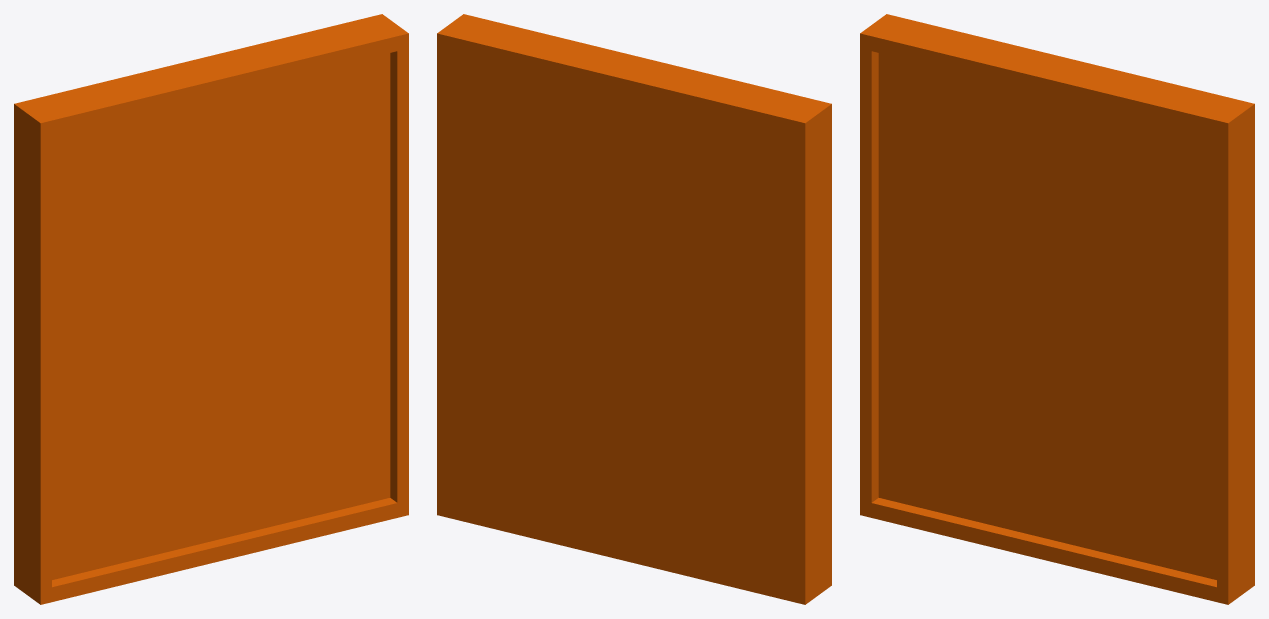
File: Framt.fbx
3 views of the same model, side by side, from view 1: azimuth 30°, elevation 25°; view 2: azimuth 150°, elevation 25°; view 3: azimuth 330°, elevation 25° (orthographic).
Visible parts, largest first — view 1: Frame; view 2: Frame; view 3: Frame.
Part boxes in pixels (x1,y1,x2,y2): Frame: (14,14,408,604); Frame: (437,14,831,604); Frame: (860,14,1254,604).
Bounding box in the file's own units: 38.75 × 48.44 × 4.84.
